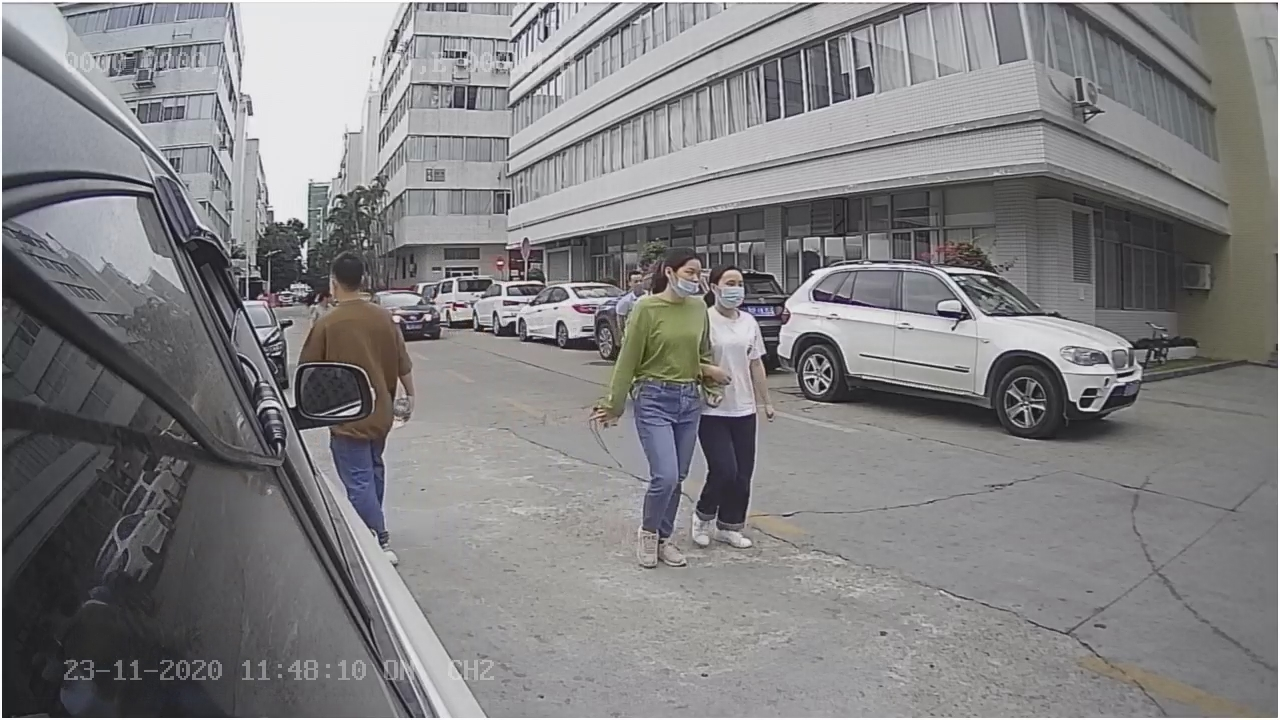person: (591, 241, 717, 570)
